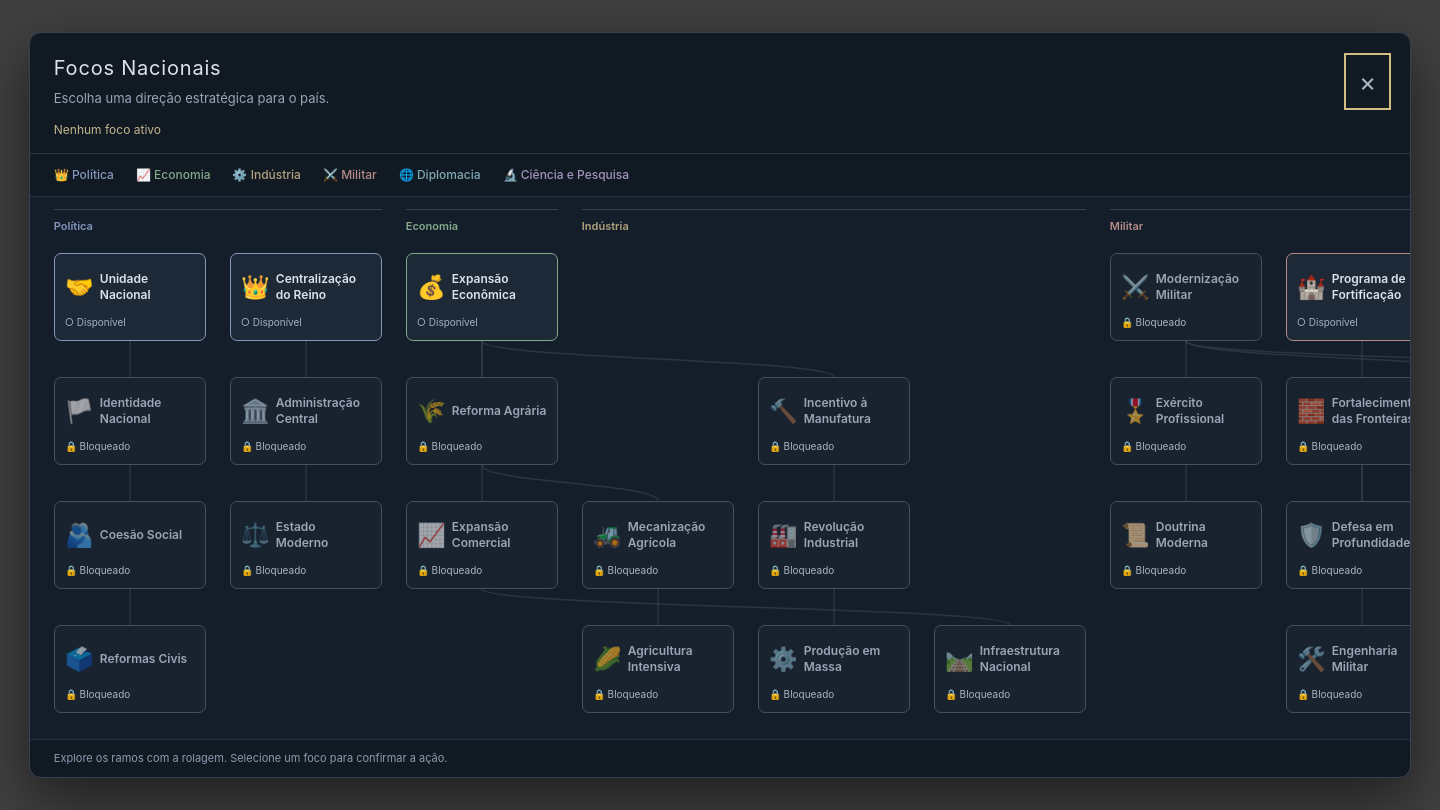
Test: Focus UI V2 › uses the canonical validation even for an otherwise available root
What coordinates should you click on to do the following:
click the button "⚔️ Modernização Militar 🔒 Bloqueado"
I would click on:
 (1186, 297)
Its box is top-left (1110, 253), bottom-right (1262, 341).
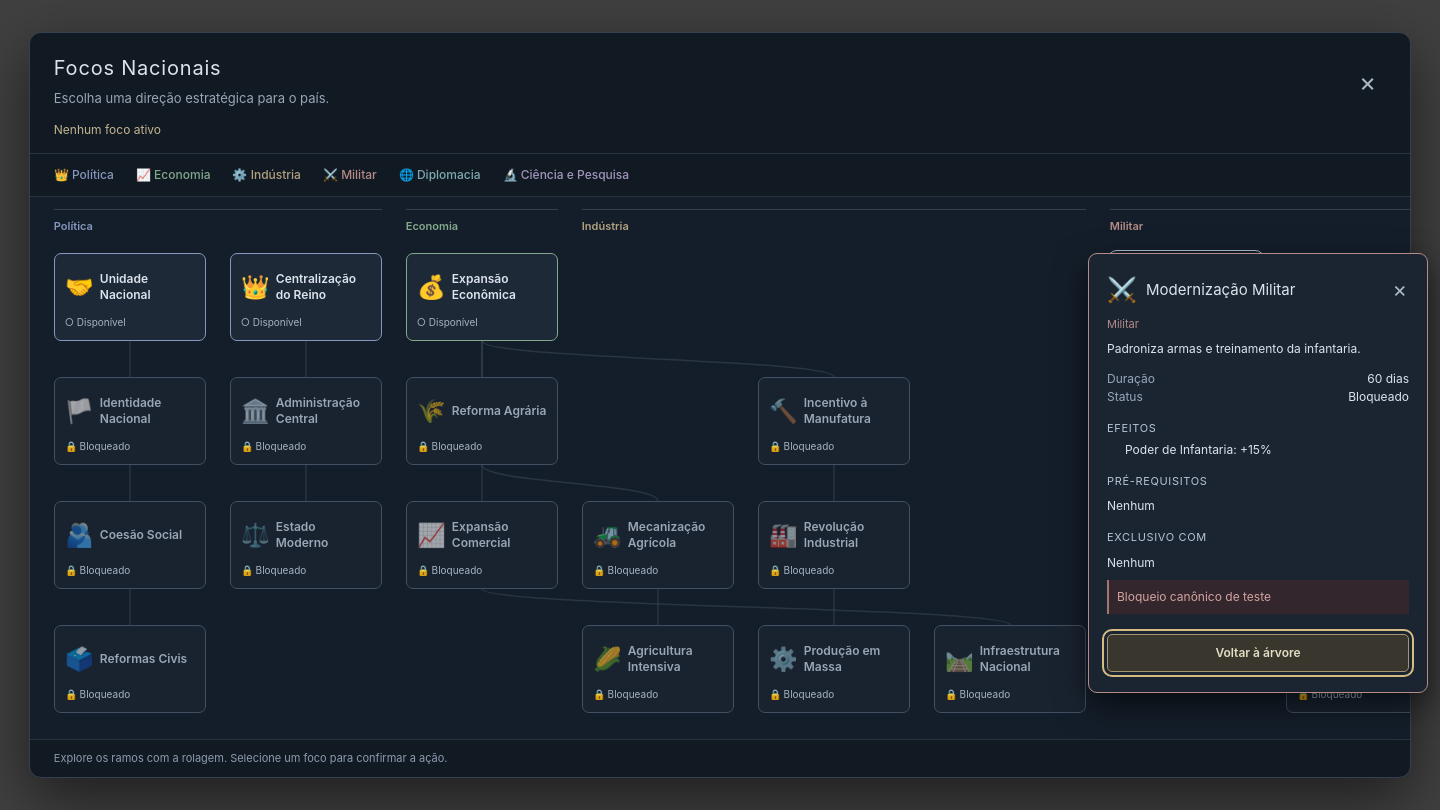
expect the text "Bloqueio canônico de teste" is shown: met, box top-left (1107, 580), bottom-right (1409, 614)
